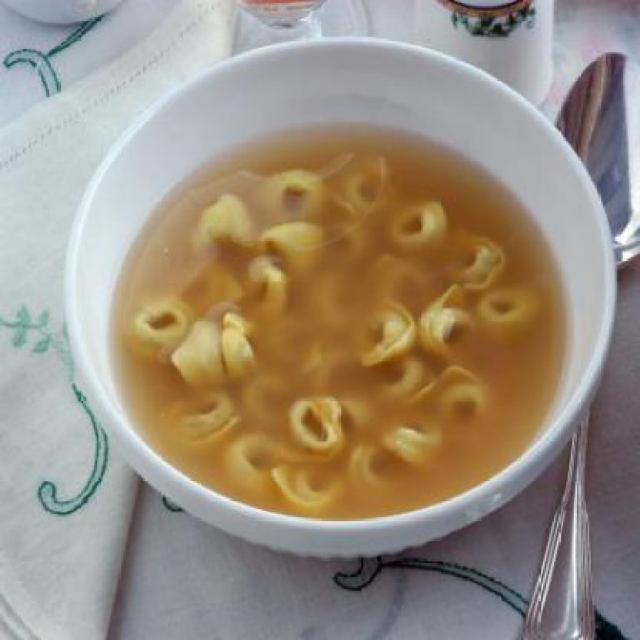Tortellini in broth: (134, 138, 548, 480)
